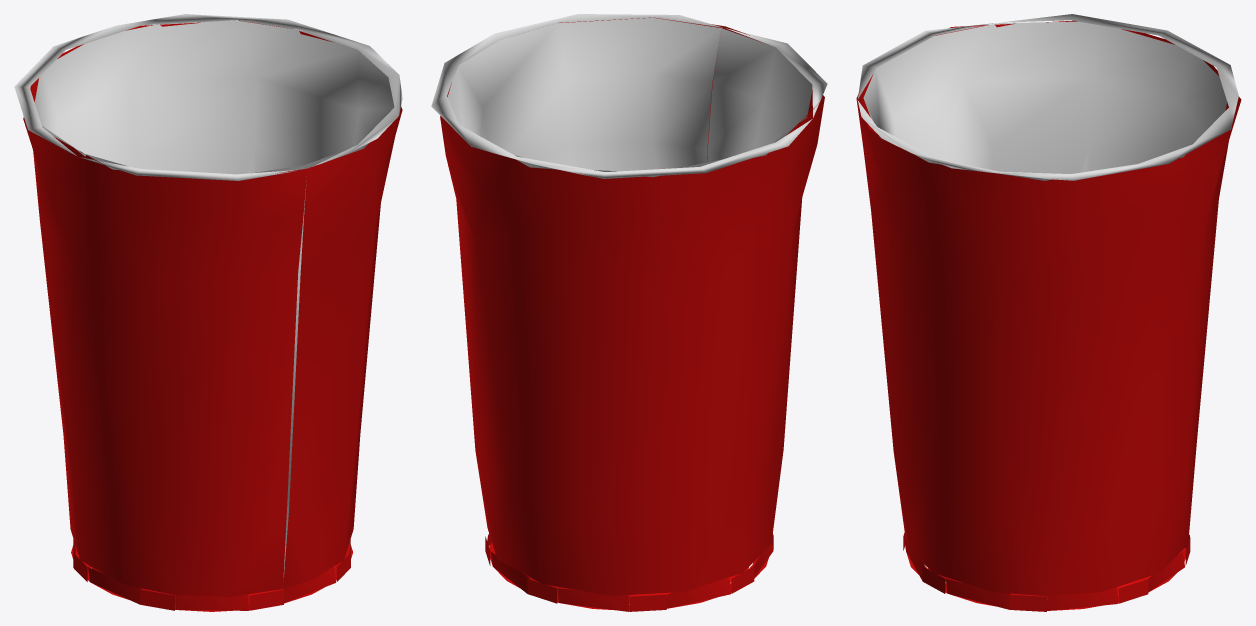
Rendered from red_cup.glb.
The picture shows the model from 3 angles, left to right: view 1: azimuth 30°, elevation 25°; view 2: azimuth 150°, elevation 25°; view 3: azimuth 270°, elevation 25°; orthographic projection.
Visible parts, largest first — view 1: Sketchfab Model.022; view 2: Sketchfab Model.022; view 3: Sketchfab Model.022.
Part boxes in pixels (box(x1,y1,x2,y2)): Sketchfab Model.022: box(14, 14, 402, 611); Sketchfab Model.022: box(431, 14, 827, 611); Sketchfab Model.022: box(856, 14, 1241, 611).
Bounding box in the file's own units: 0.6116 × 0.782 × 0.5967.
Materials: 1 (1 with a texture image).
